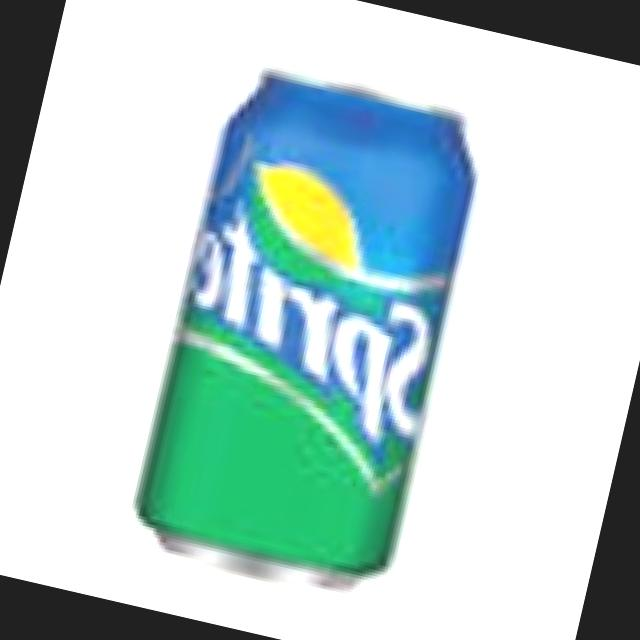kim_loai: (130, 69, 478, 586)
